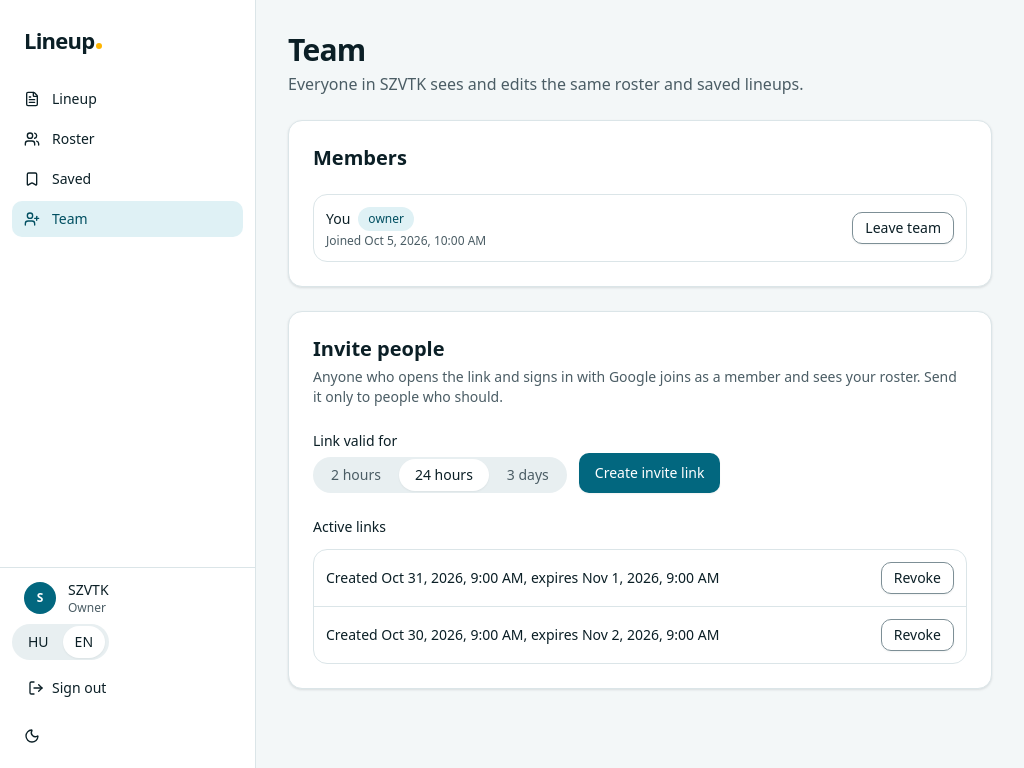
active links › explains a failed revoke
Click the 1st button "Revoke" at (917, 578), box [881, 562, 954, 594]
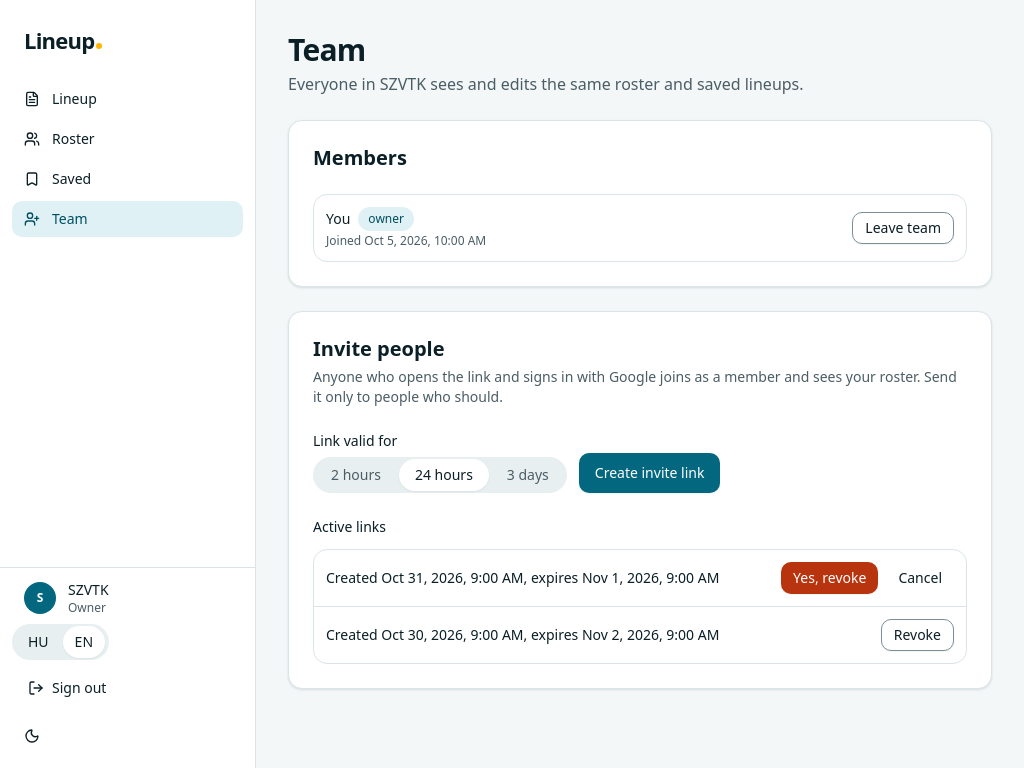
Click the button "Yes, revoke" at (830, 578), box [781, 562, 878, 594]
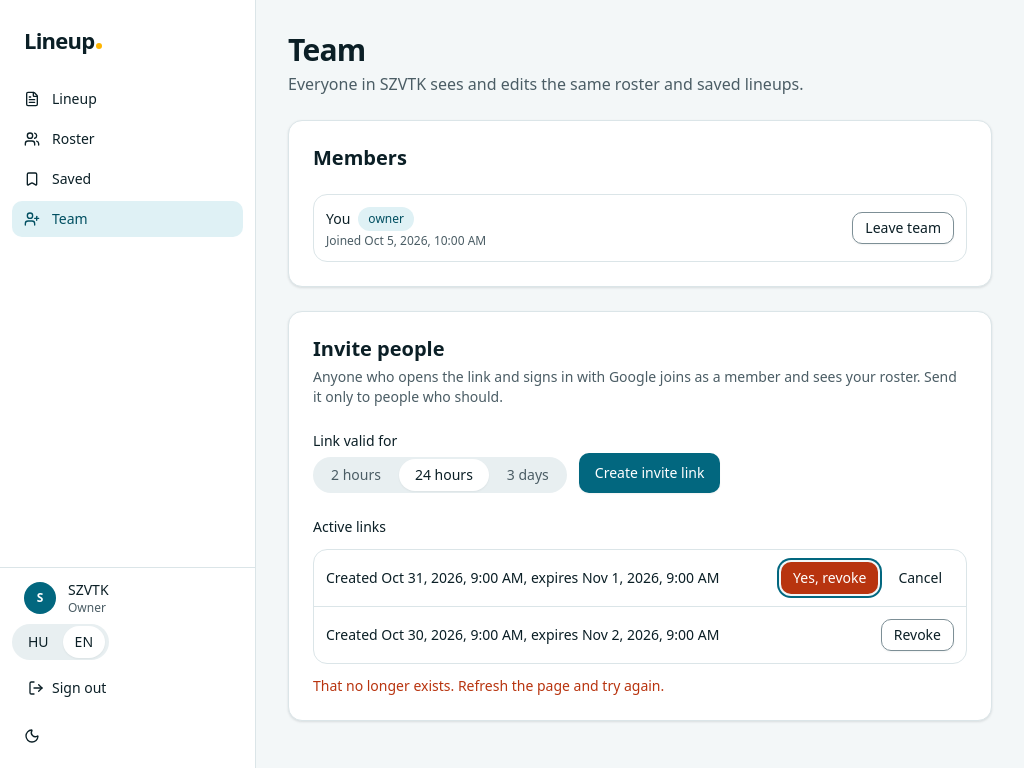
expect the message shows "no longer exists": met, box [313, 676, 664, 695]
